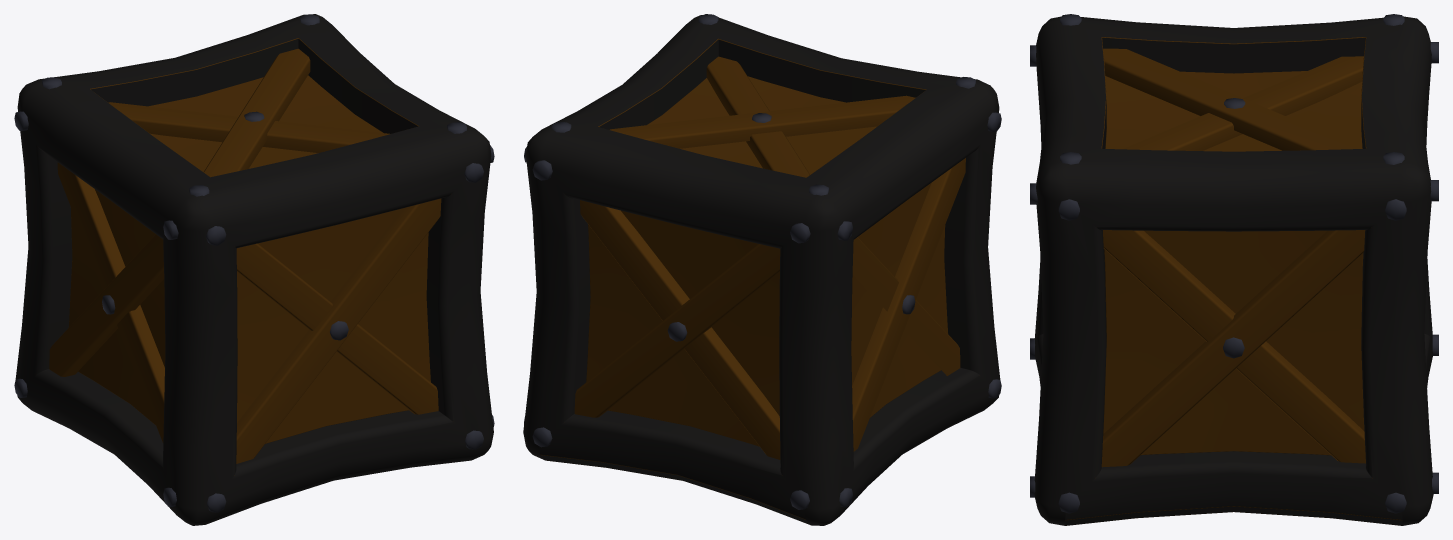
File: SM_Wooden_Crate_01.fbx
3 renders of one model, left to right at view 1: azimuth 30°, elevation 25°; view 2: azimuth 150°, elevation 25°; view 3: azimuth 270°, elevation 25°, orthographic. The views are drawn at different scales.
Visible parts, largest first — view 1: Crate; view 2: Crate; view 3: Crate.
Boxes of the visible parts, left/top/right/bottom form: Crate: left=14, top=14, right=494, bottom=525; Crate: left=523, top=14, right=1001, bottom=525; Crate: left=1030, top=14, right=1438, bottom=525.
Bounding box in the file's own units: 215 × 213 × 217.
